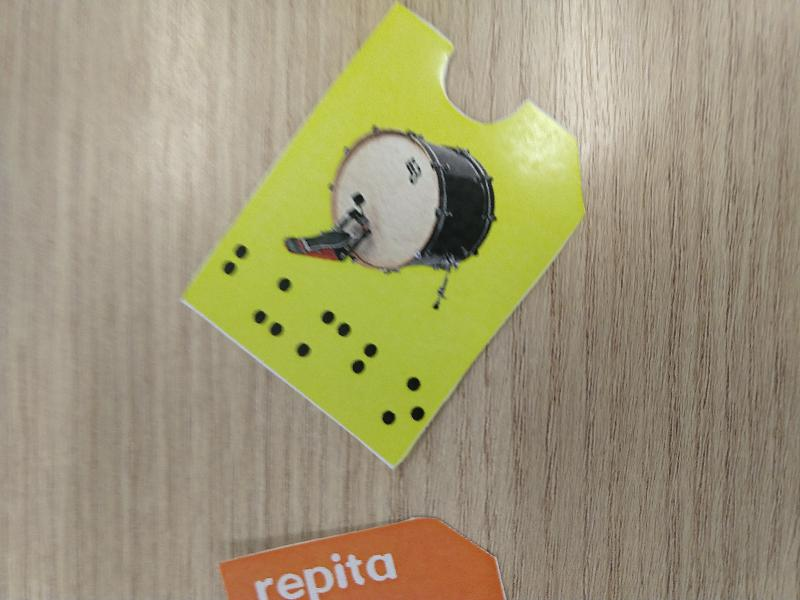bumbo: (174, 1, 596, 471)
